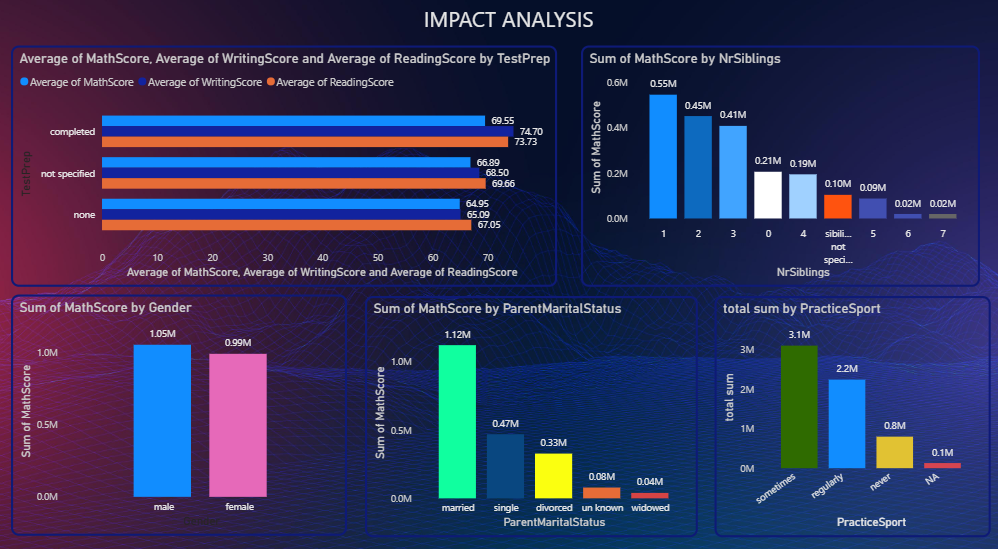

The dashboard page shown, as its layout file describes it:
{"tool":"powerbi","page":{"name":"Page 2","canvas":[1280,720],"ordinal":1},"visuals":[{"type":"clusteredBarChart","fields":{"Category":["Sheet1.TestPrep"],"Y":["Avg(Sheet1.MathScore)","Avg(Sheet1.WritingScore)","Avg(Sheet1.ReadingScore)"]},"box":[22.7,69.9,687.9,304.3],"z":0},{"type":"columnChart","fields":{"Category":["Sheet1.Gender"],"Y":["Sum(Sheet1.MathScore)"]},"box":[22.7,383.6,423.3,304.3],"z":1},{"type":"clusteredColumnChart","fields":{"Category":["Sheet1.PracticeSport"],"Y":["Sheet1.total sum"]},"box":[909,385.5,347.7,304.3],"z":2},{"type":"columnChart","fields":{"Category":["Sheet1.ParentMaritalStatus"],"Y":["Sum(Sheet1.MathScore)"]},"box":[468.7,385.5,419.5,304.3],"z":3},{"type":"columnChart","fields":{"Category":["Sheet1.NrSiblings"],"Y":["Sum(Sheet1.MathScore)"]},"box":[740.8,69.9,502.7,304.3],"z":4},{"type":"textbox","box":[402.5,13.2,506.5,56.7],"z":5}]}

Visuals, with their boxes in screenshot pixels (x1, y1, x2, y2), scaled from the page's 1280x720 canvas onto the 998x549 screenshot:
clusteredBarChart - Sheet1.TestPrep x Avg(Sheet1.MathScore): [x1=18, y1=53, x2=554, y2=285]
columnChart - Sheet1.Gender x Sum(Sheet1.MathScore): [x1=18, y1=292, x2=348, y2=525]
clusteredColumnChart - Sheet1.PracticeSport x Sheet1.total sum: [x1=709, y1=294, x2=980, y2=526]
columnChart - Sheet1.ParentMaritalStatus x Sum(Sheet1.MathScore): [x1=365, y1=294, x2=693, y2=526]
columnChart - Sheet1.NrSiblings x Sum(Sheet1.MathScore): [x1=578, y1=53, x2=970, y2=285]
textbox: [x1=314, y1=10, x2=709, y2=53]
